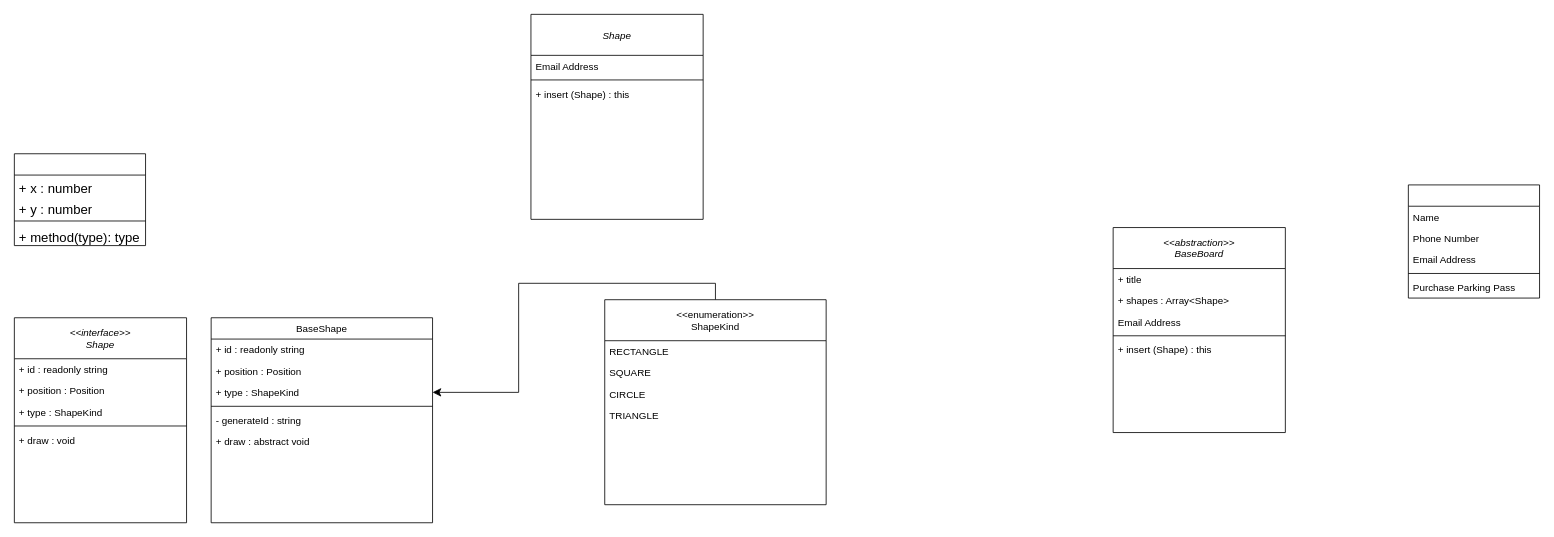
Image size: 1554x537. Some labels were removed from this diagram. Here are the shapes that lost their labels. From the top down, the box of each, then its label:
(14, 153, 146, 246): Position
(1408, 184, 1540, 298): Application
